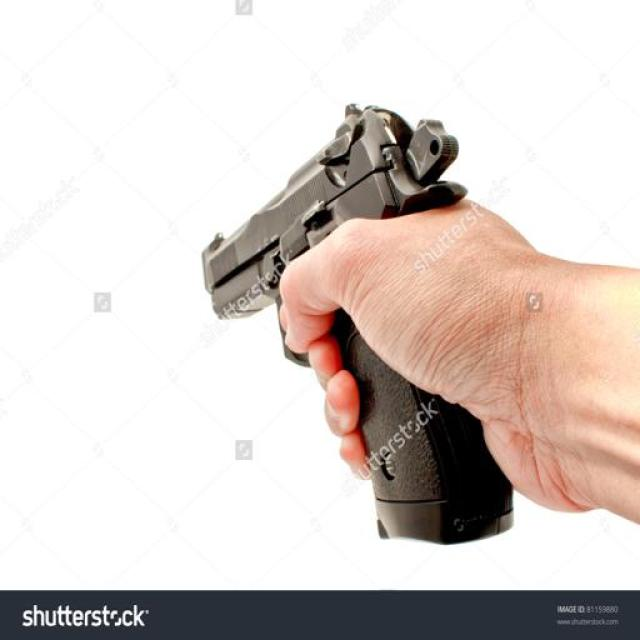pistol: (200, 98, 514, 536)
